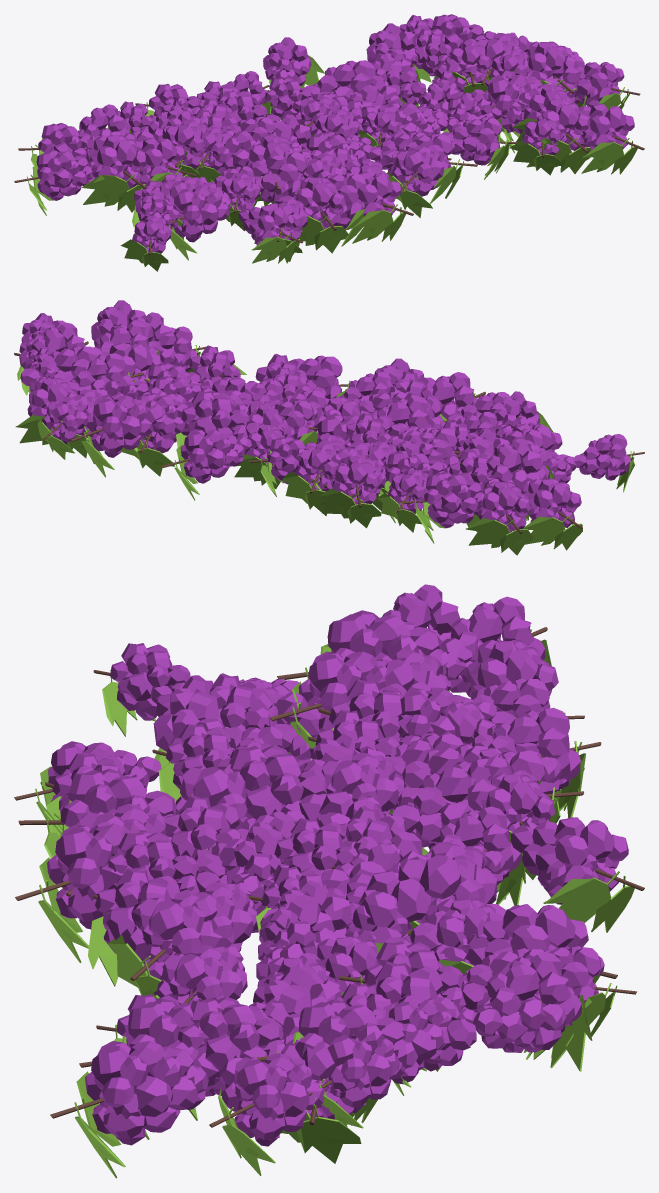
File: grapes.fbx
The picture shows the model from 3 angles, top to bottom: view 1: azimuth 30°, elevation 25°; view 2: azimuth 150°, elevation 25°; view 3: azimuth 270°, elevation 25°; orthographic projection. The views are drawn at different scales.
Visible parts, largest first — view 1: Icosphere.015_Icosphere.006; view 2: Icosphere.015_Icosphere.006; view 3: Icosphere.015_Icosphere.006.
Boxes of the visible parts, bbox=[...] form: Icosphere.015_Icosphere.006: bbox=[14, 14, 644, 271]; Icosphere.015_Icosphere.006: bbox=[14, 300, 644, 555]; Icosphere.015_Icosphere.006: bbox=[14, 584, 644, 1178].
Size of the model in its own units: 1369 by 217 by 717.
